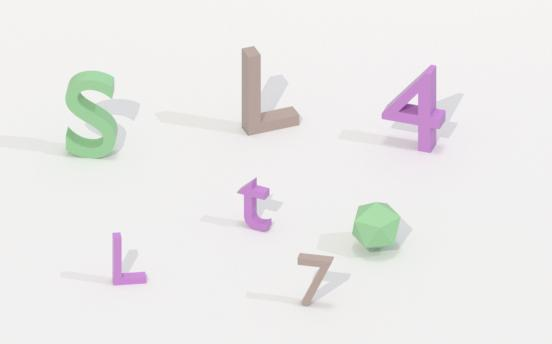4: (377, 63, 449, 151)
7: (294, 251, 341, 309)
dagiac: (347, 201, 406, 253)
l: (234, 43, 309, 135), (108, 227, 157, 289)
s: (60, 70, 123, 164)
t: (233, 177, 279, 233)
